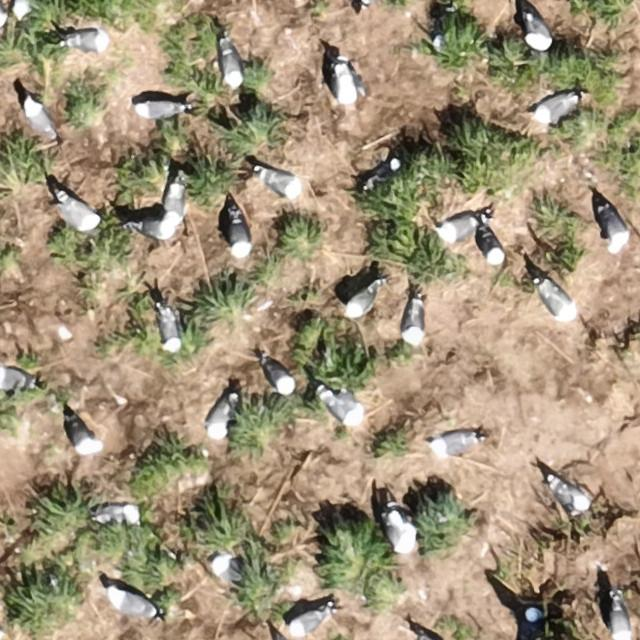umineko: (211, 545, 250, 584), (541, 284, 574, 320), (554, 479, 592, 510), (109, 590, 154, 616), (59, 196, 96, 227), (602, 208, 630, 248), (69, 419, 100, 455), (388, 512, 415, 553), (525, 12, 553, 49), (325, 392, 357, 423), (262, 172, 300, 198), (27, 103, 55, 138), (132, 219, 178, 240), (347, 286, 378, 317), (534, 94, 572, 119), (264, 361, 293, 393), (334, 66, 358, 104), (208, 396, 232, 434), (289, 610, 326, 634), (432, 433, 473, 454), (159, 310, 180, 351), (97, 504, 140, 524), (67, 32, 110, 52), (438, 218, 477, 240), (230, 214, 250, 256), (403, 301, 424, 340), (221, 46, 241, 86), (368, 158, 399, 183), (164, 181, 184, 219), (611, 604, 632, 640), (137, 100, 178, 118), (480, 231, 503, 263), (1, 367, 28, 390), (522, 607, 542, 631), (417, 629, 450, 639), (13, 2, 32, 19)
